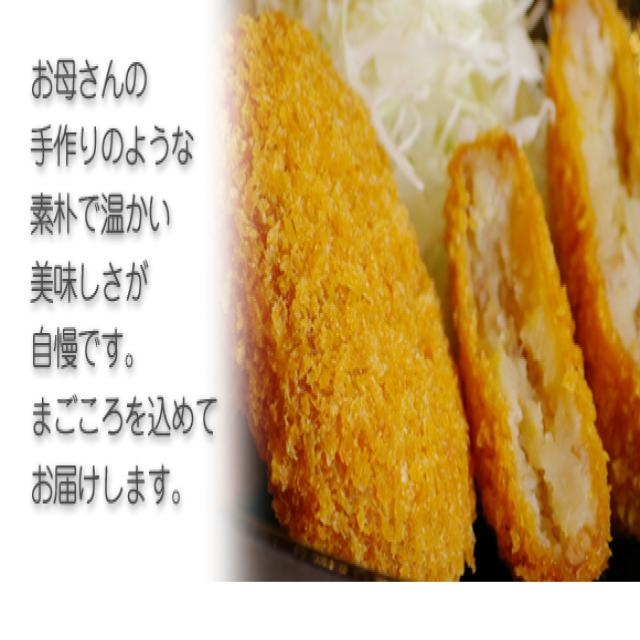炸货点心: (259, 0, 640, 576)
